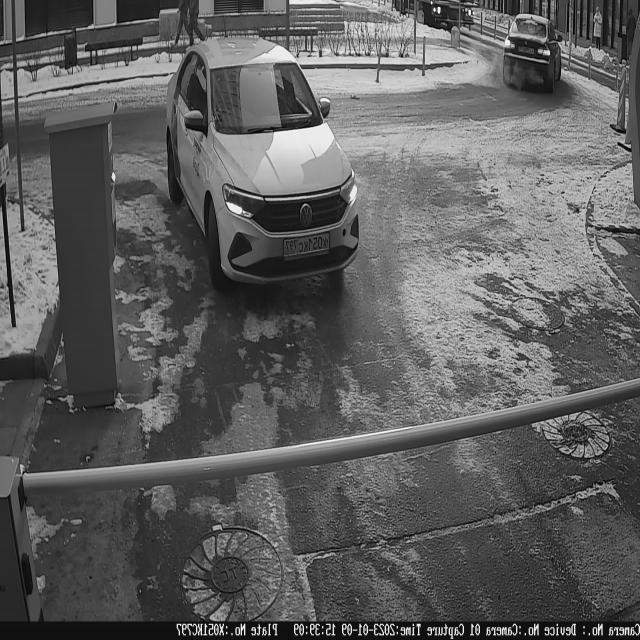car-plate-numbers: (281, 227, 334, 267)
